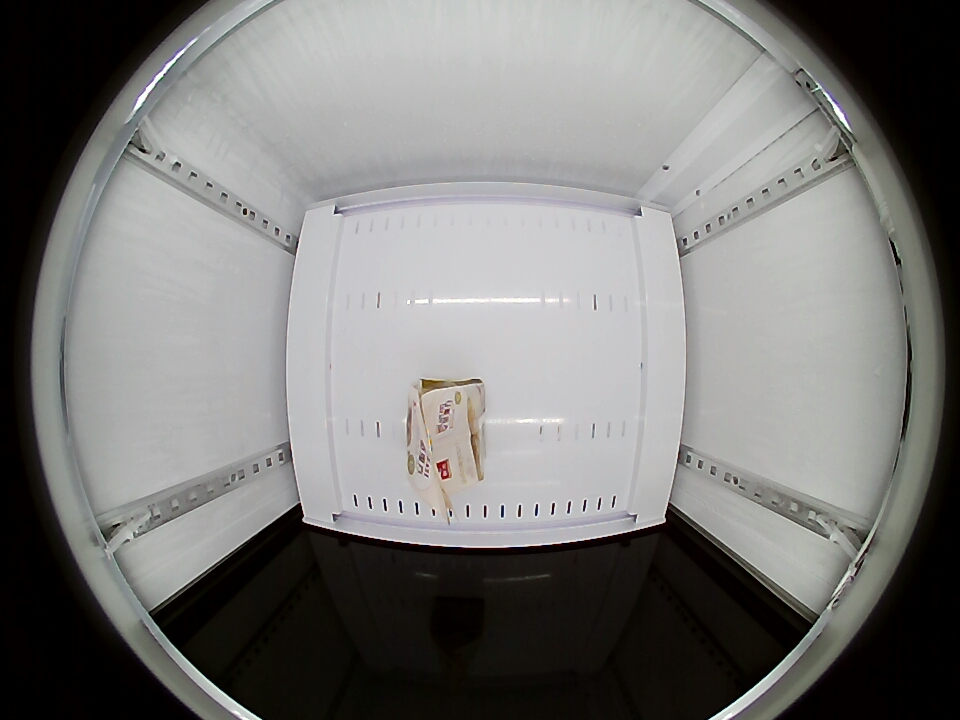zaocanmofang: (407, 379, 484, 509)
